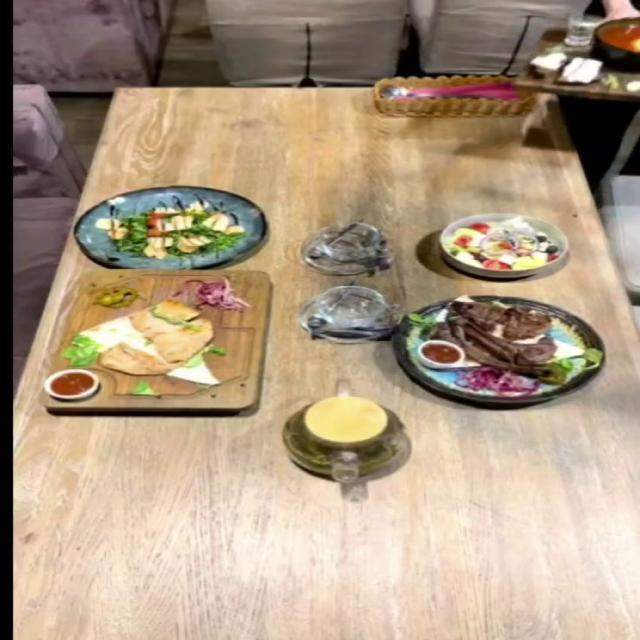meat: (41, 272, 274, 412), (390, 294, 606, 404)
salad: (72, 185, 264, 268), (438, 212, 570, 276)
tea: (280, 394, 410, 484)
